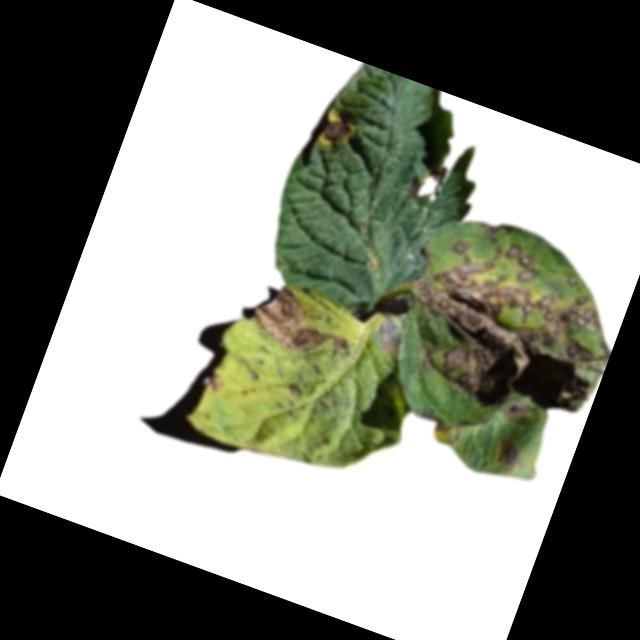Early_blight: (385, 217, 633, 438), (244, 281, 363, 370), (407, 156, 448, 209), (416, 407, 465, 446), (318, 112, 356, 153), (500, 395, 533, 427), (493, 440, 525, 472), (205, 372, 224, 394), (284, 380, 303, 399)
